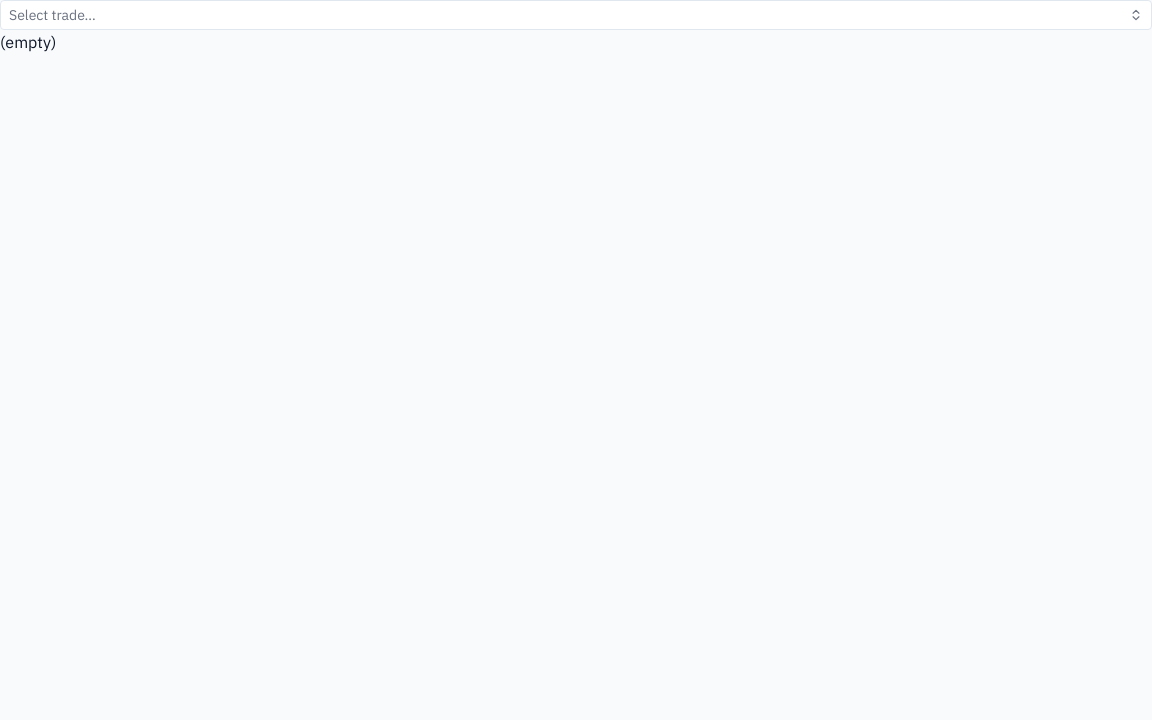
<TradePicker/> › renders existing trades from the hook
Step 1. Click the button with test id "tp-trigger" → (52, 15), box [0, 0, 1151, 30]
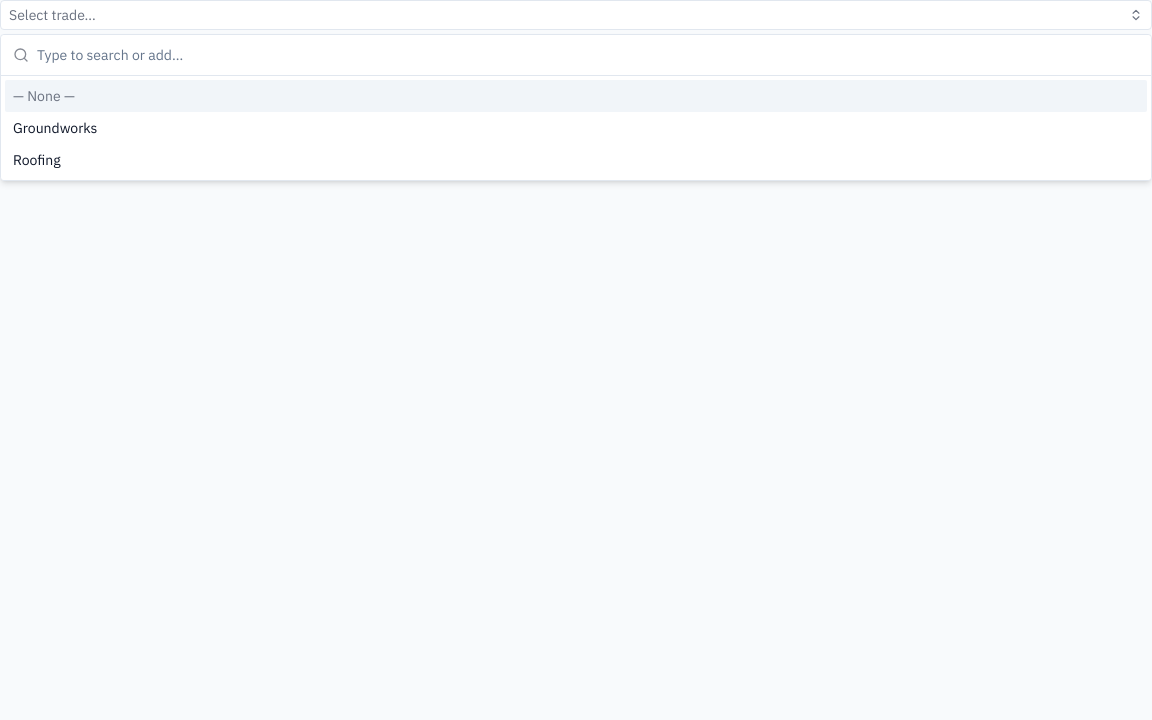
Now the option with test id "tp-option-T1" reads "Groundworks", box [13, 119, 97, 137]
Now the option with test id "tp-option-T2" reads "Roofing", box [13, 151, 61, 169]
